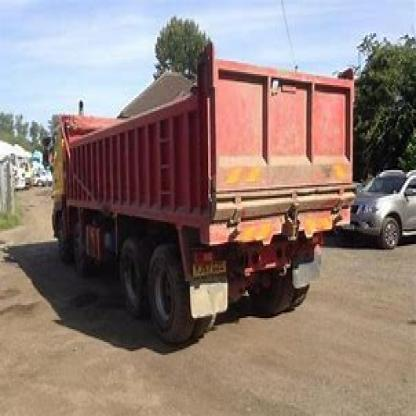dump_truck: (25, 43, 365, 346)
